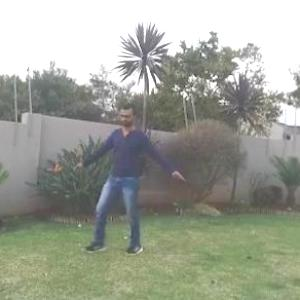land: (83, 111, 182, 236)
